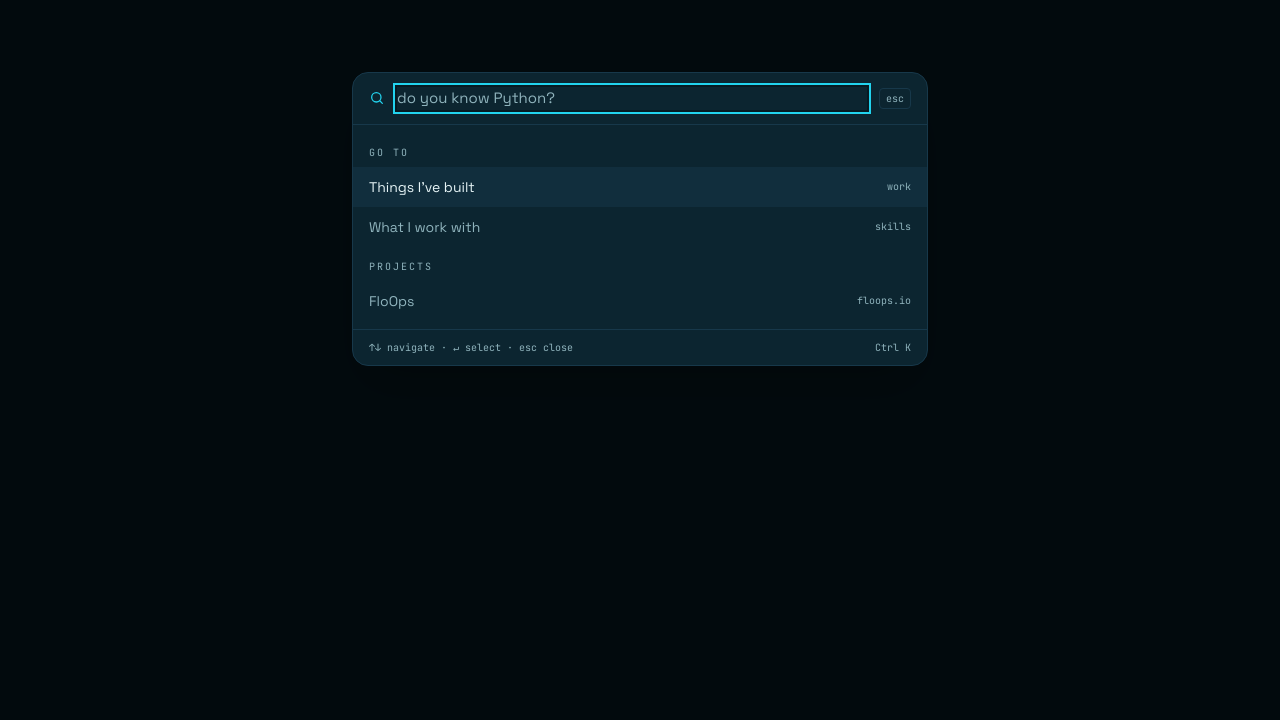
Test: CommandPalette › offers no destination when the answer names none
The image size is (1280, 720).
Type "what is his salary?" into the dropdown at (632, 98), box [397,87,867,110]
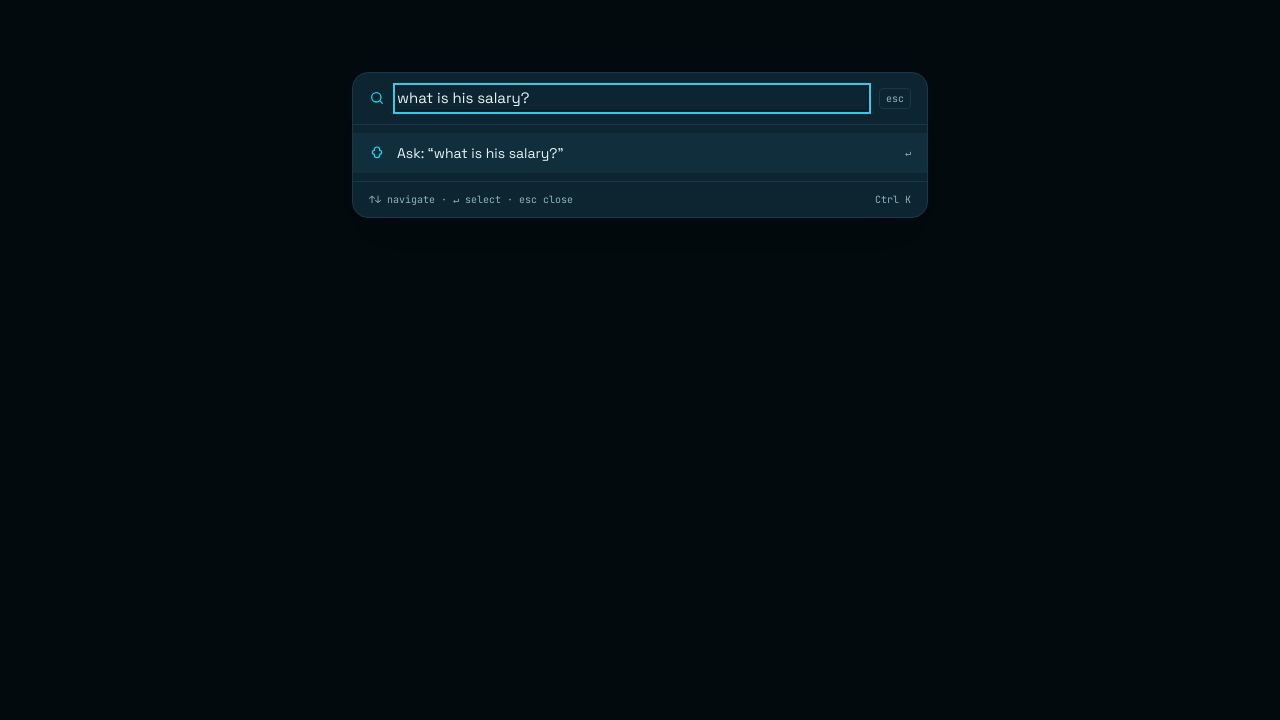
Press Enter
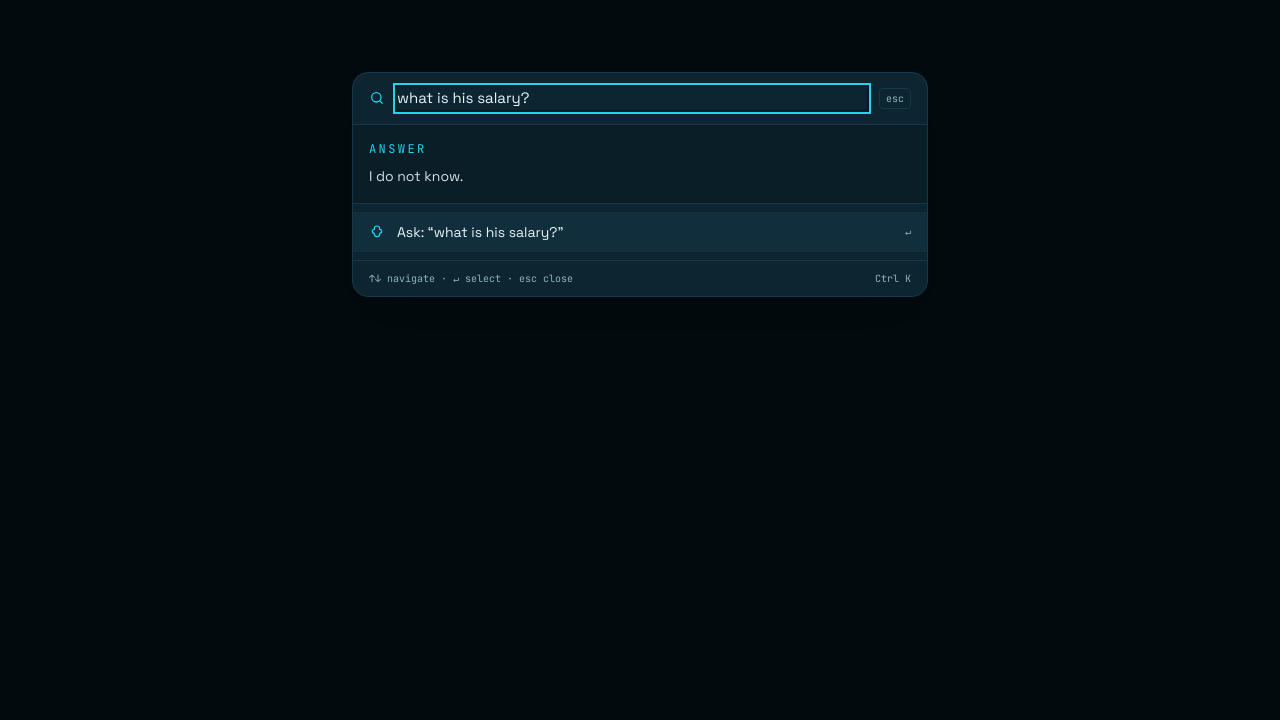
Expected: the text "I do not know." is shown, [369,166,463,184]
